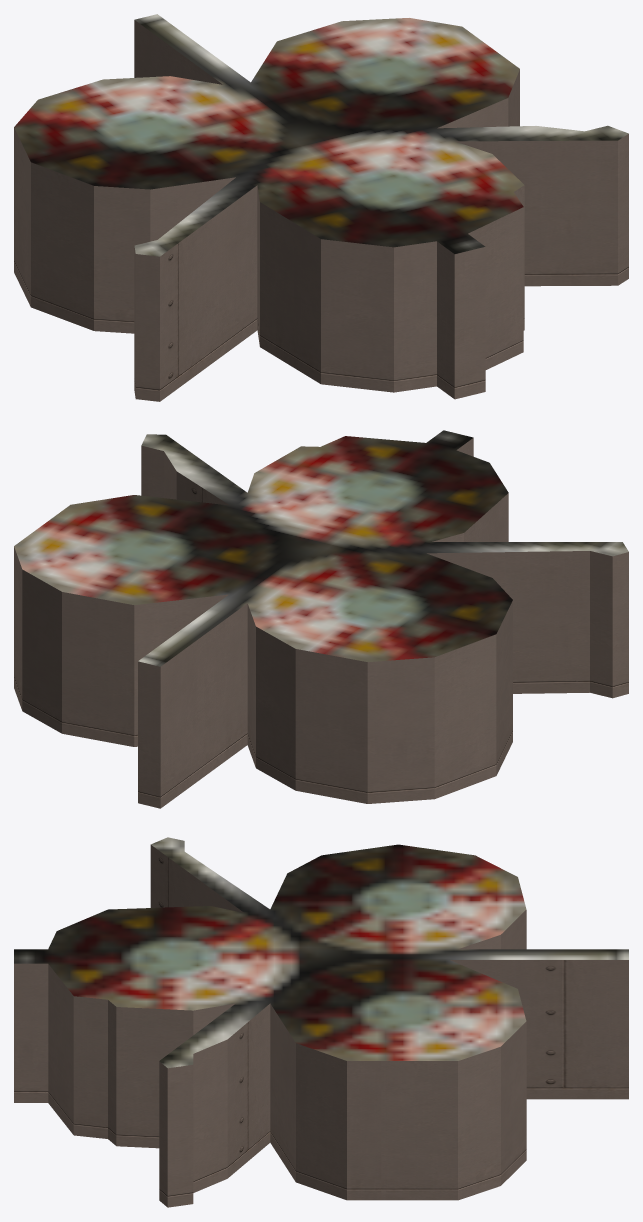
File: fuel_tank_hard_29.glb
3 renders of one model, top to bottom at view 1: azimuth 30°, elevation 25°; view 2: azimuth 150°, elevation 25°; view 3: azimuth 270°, elevation 25°, orthographic. The views are drawn at different scales.
Parts seen in each view (by area): view 1: buildings/saxarba/fuel_tanks/fuel_tank_hard_29; view 2: buildings/saxarba/fuel_tanks/fuel_tank_hard_29; view 3: buildings/saxarba/fuel_tanks/fuel_tank_hard_29.
Boxes of the visible parts, left/top/right/bottom form: buildings/saxarba/fuel_tanks/fuel_tank_hard_29: left=14, top=14, right=628, bottom=401; buildings/saxarba/fuel_tanks/fuel_tank_hard_29: left=14, top=430, right=628, bottom=808; buildings/saxarba/fuel_tanks/fuel_tank_hard_29: left=14, top=837, right=628, bottom=1207.
Size of the model in its own units: 64 by 18 by 72.
